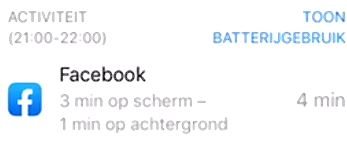activity: (4, 4, 110, 49)
app: (4, 62, 347, 134)
